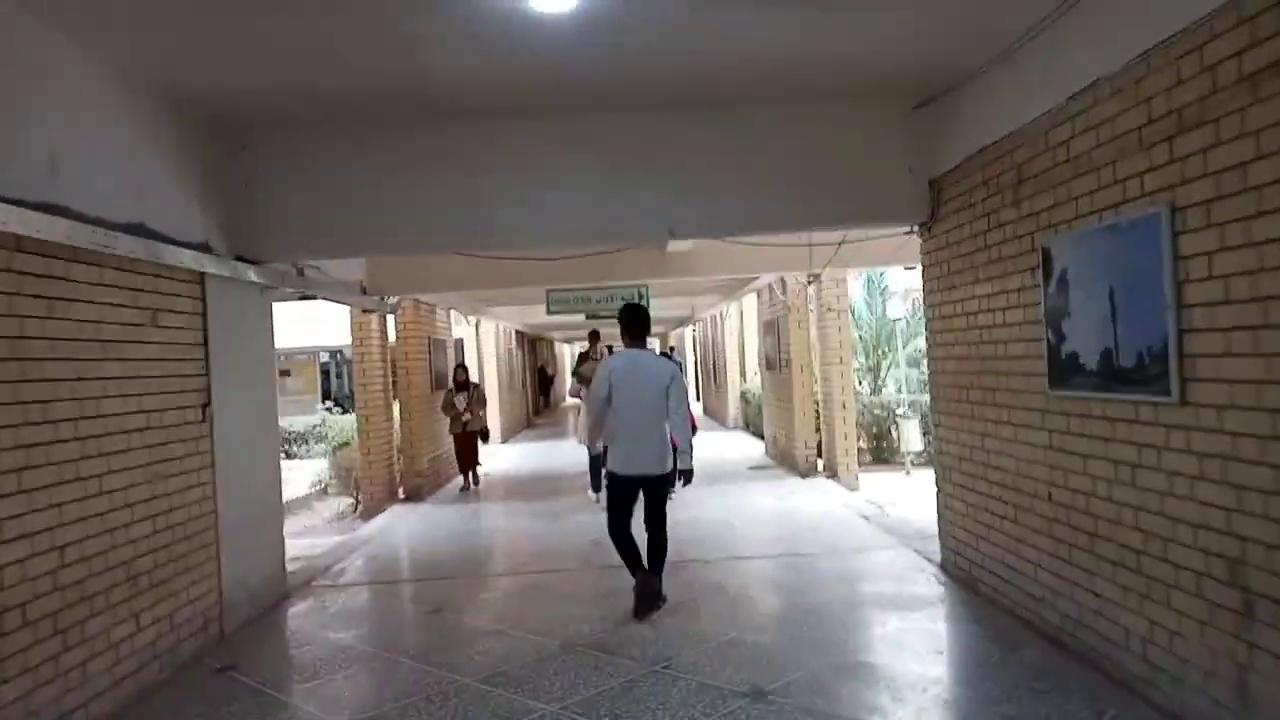person: (583, 301, 697, 620), (570, 328, 612, 503), (440, 362, 487, 492), (657, 345, 696, 499), (536, 362, 554, 409)
tree: (847, 269, 927, 461), (278, 401, 357, 510), (848, 269, 899, 398)
